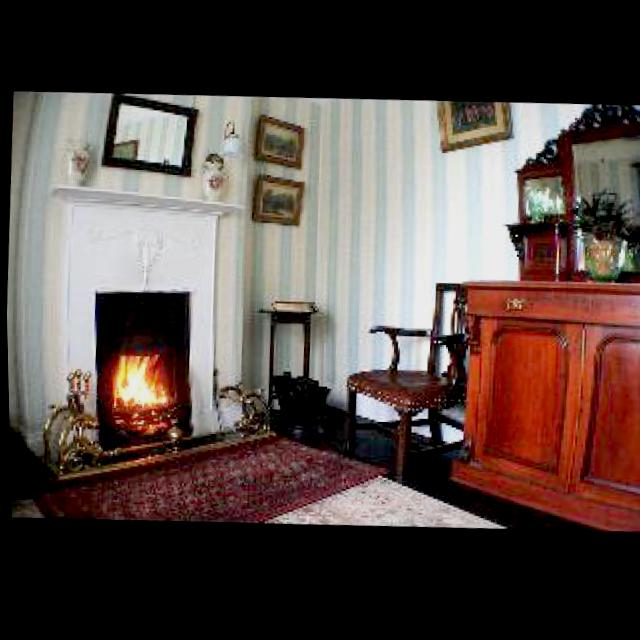Fire: (102, 347, 178, 428)
